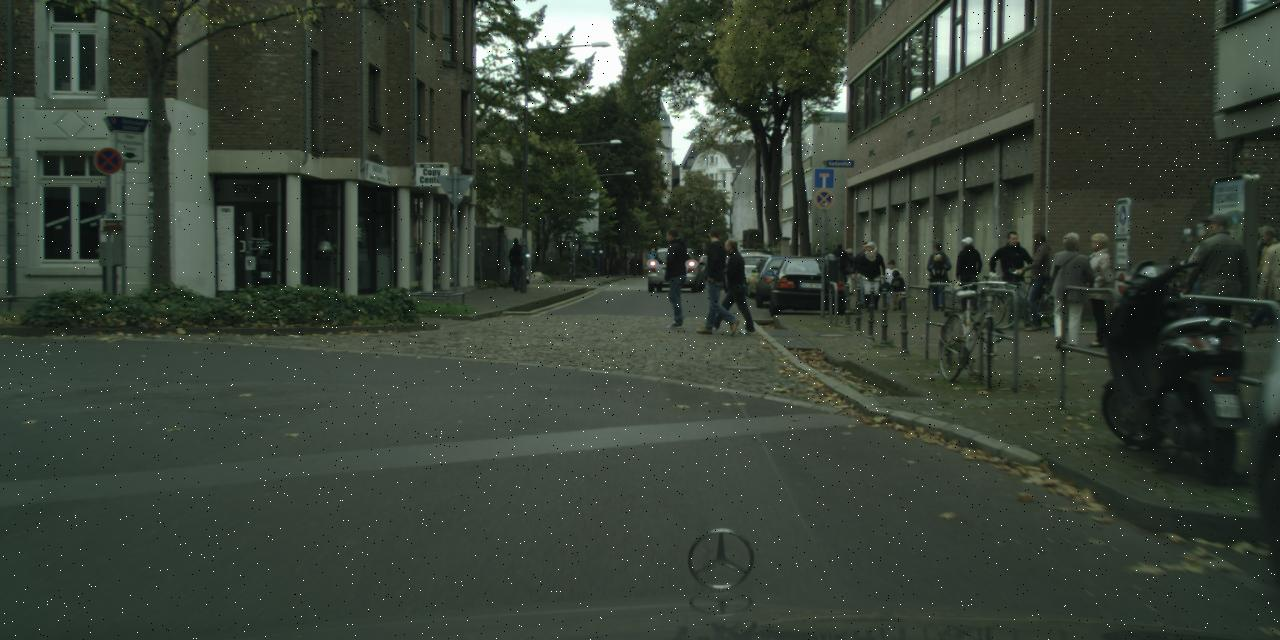ped: (1183, 212, 1248, 372), (1046, 230, 1093, 348), (1078, 232, 1123, 345), (696, 227, 739, 334), (1019, 229, 1060, 329), (994, 230, 1034, 326), (654, 229, 693, 327), (1246, 225, 1279, 334), (1246, 229, 1278, 339), (712, 239, 749, 331), (954, 237, 984, 310), (857, 241, 885, 310), (926, 242, 952, 310), (852, 242, 878, 306), (507, 237, 528, 290), (882, 259, 902, 309), (839, 248, 857, 294), (829, 243, 847, 289), (807, 246, 824, 290), (888, 269, 904, 310), (818, 247, 834, 285)
